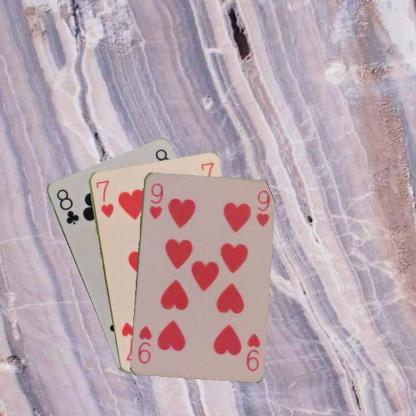7h: (93, 177, 115, 218)
8c: (53, 186, 80, 226)
9h: (146, 180, 165, 221), (243, 331, 261, 372)
